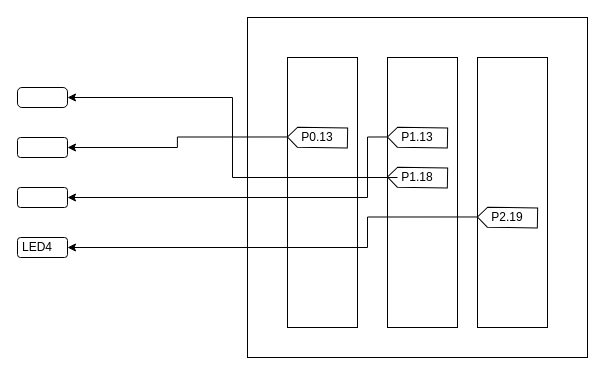
Image size: 605x375. Some labels were removed from this diagram. Here are the shapes that lost their labels. From the top down, the box of each, then its label:
(16, 86, 68, 108): LED1
(16, 136, 68, 158): LED2
(16, 186, 68, 208): LED3
